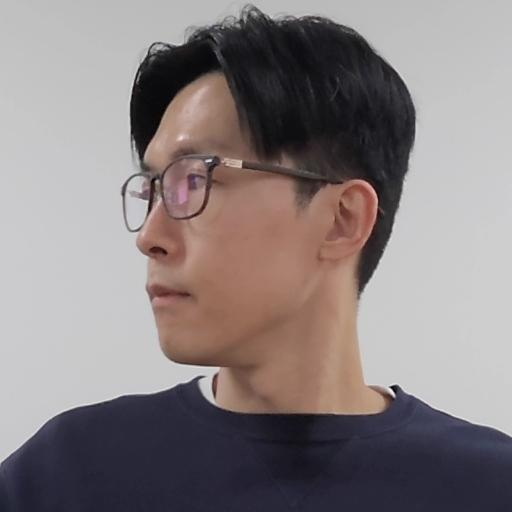no_glasses: (116, 8, 422, 374)
